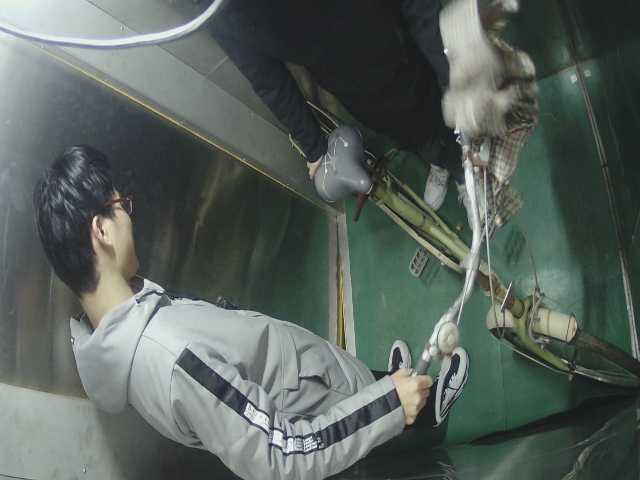bicycle: (288, 104, 636, 398)
person: (38, 149, 453, 471)
